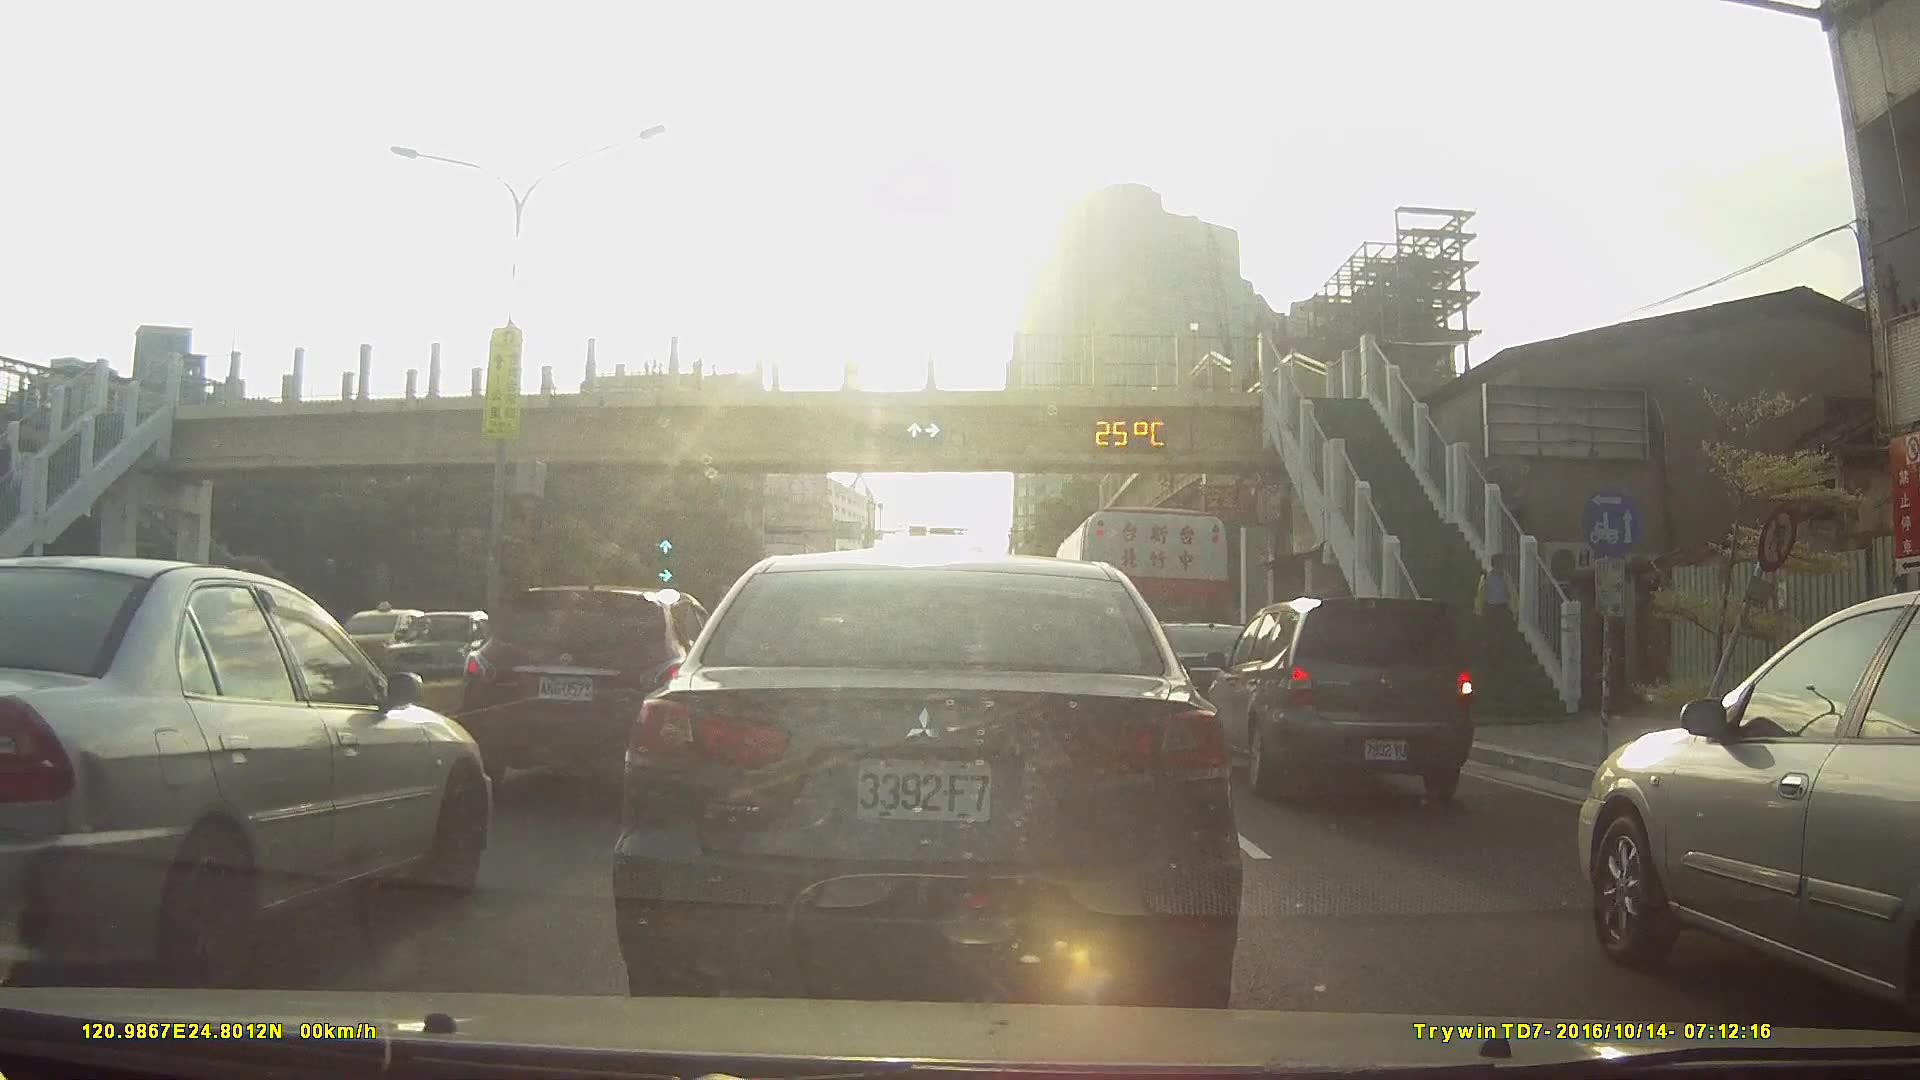pedestrian: (1473, 552, 1522, 658)
vehicle: (610, 552, 1246, 1005), (1, 557, 499, 983), (1567, 585, 1920, 1062), (1201, 596, 1487, 801), (463, 583, 734, 787), (1099, 615, 1277, 731), (369, 608, 517, 694), (316, 607, 448, 691)
